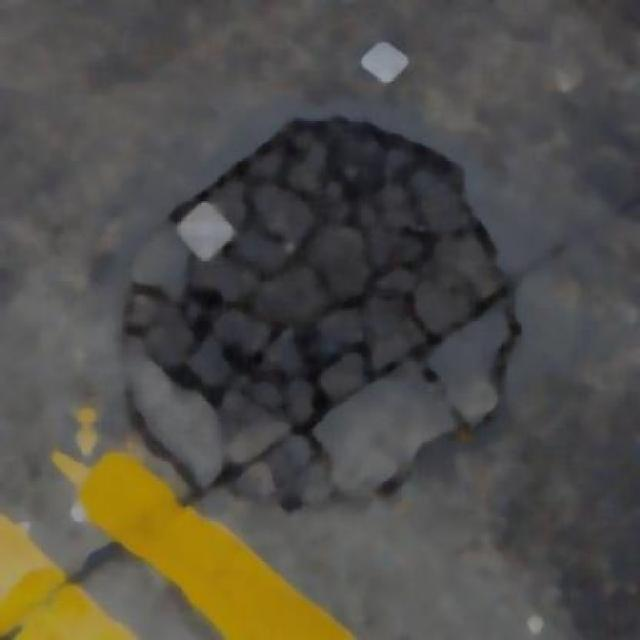Pothole: (117, 106, 518, 463)
